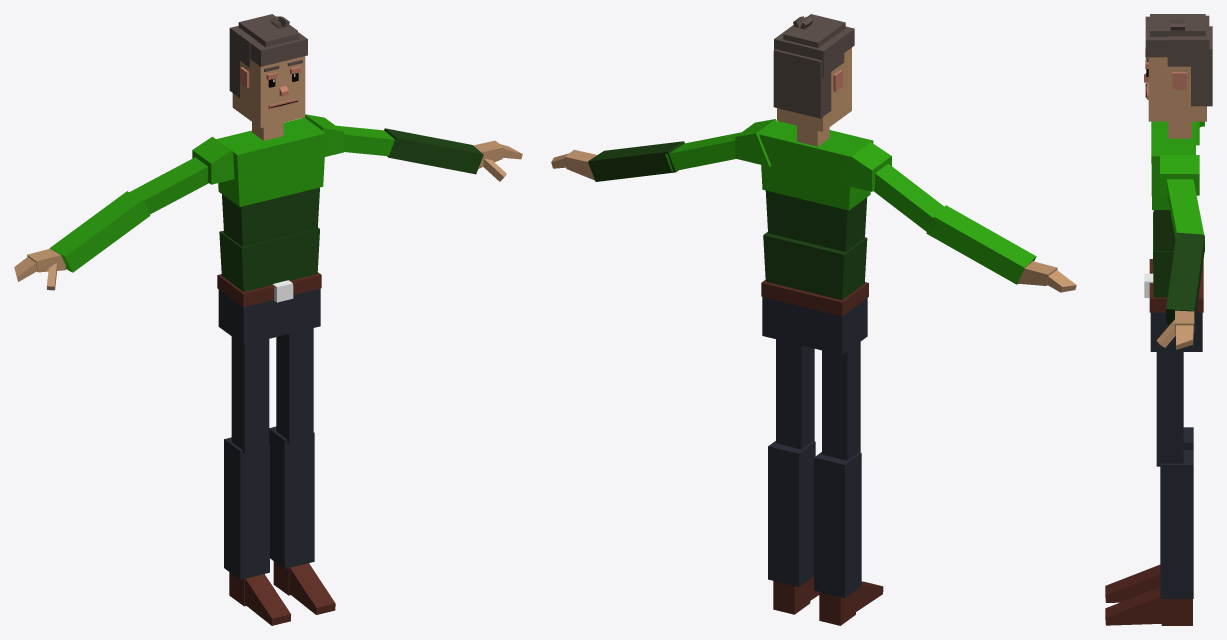
The model's file is cubicWorldCharacter.fbx.
The picture shows the model from 3 angles, left to right: view 1: azimuth 30°, elevation 25°; view 2: azimuth 150°, elevation 25°; view 3: azimuth 270°, elevation 25°; orthographic projection. The views are drawn at different scales.
Parts seen in each view (by area): view 1: char_male; view 2: char_male; view 3: char_male.
Boxes of the visible parts, x1=… form: char_male: x1=14, y1=14, x2=522, y2=625; char_male: x1=551, y1=14, x2=1076, y2=625; char_male: x1=1105, y1=14, x2=1212, y2=625.
Size of the model in its own units: 171 by 185 by 30.28.
